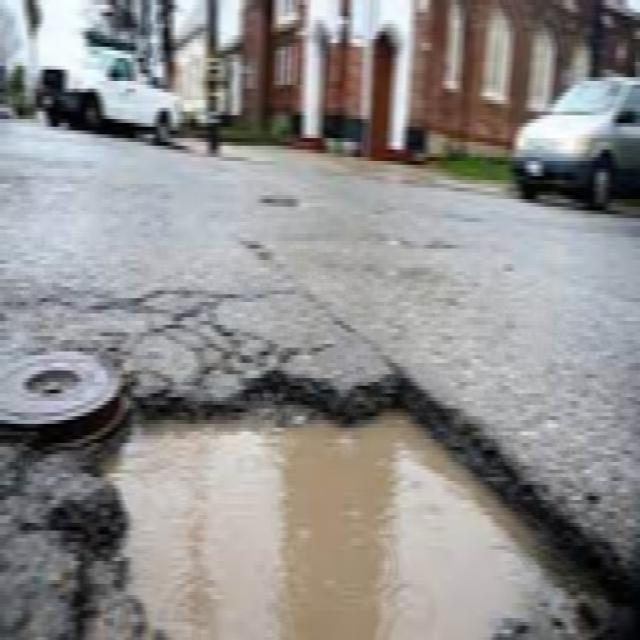Pothole: (53, 330, 626, 640)
